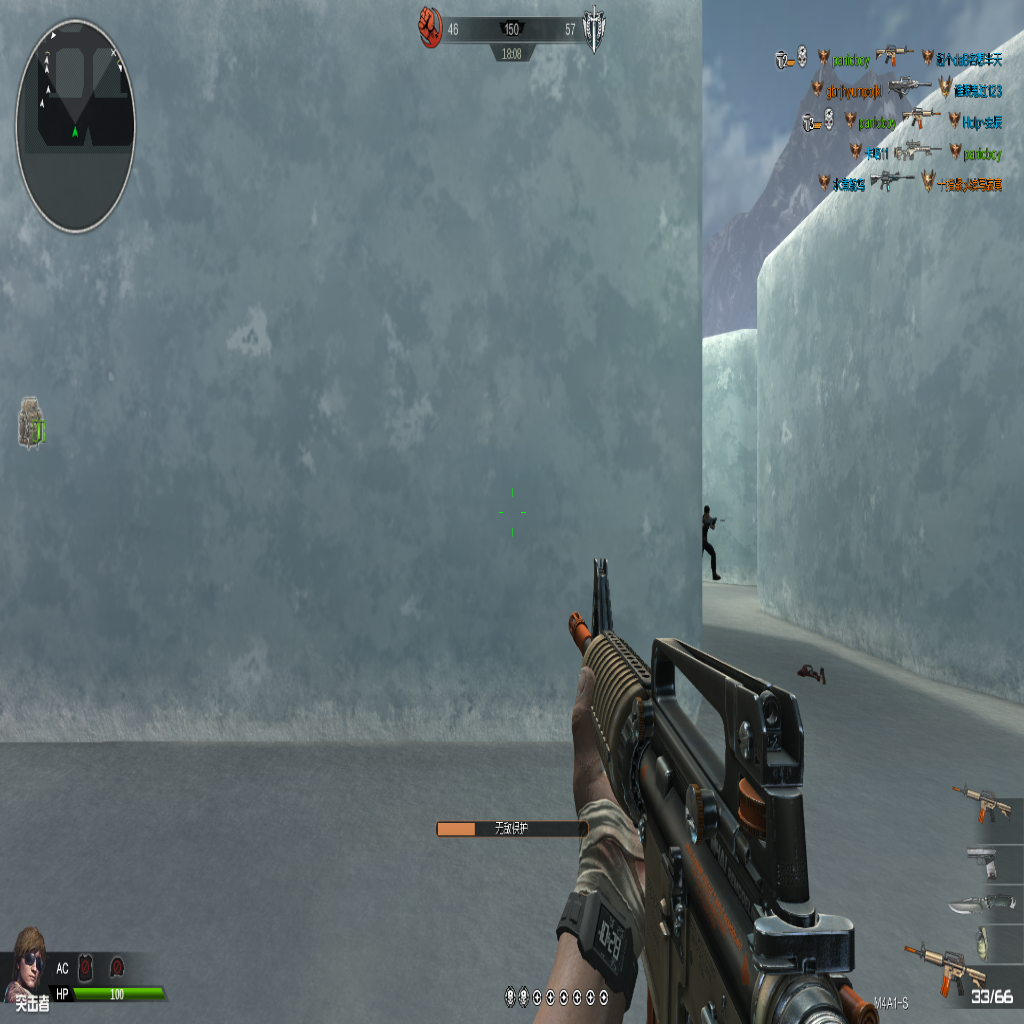ct: (701, 505, 724, 579)
